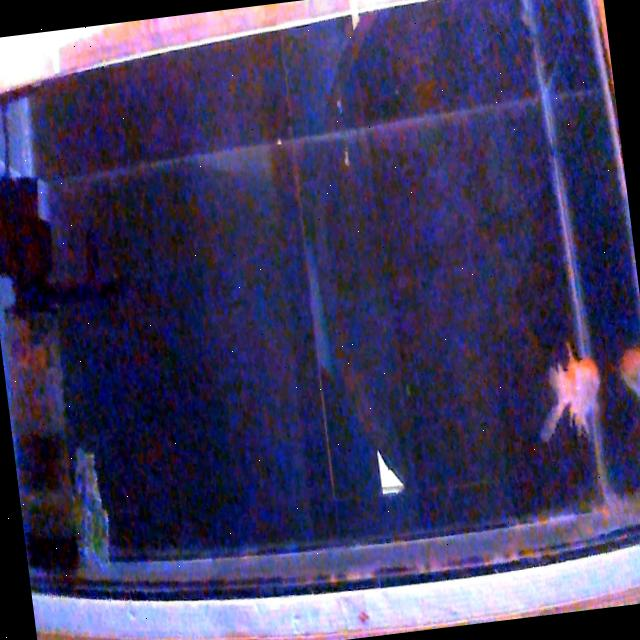fish: (530, 342, 609, 442), (615, 342, 640, 405)
